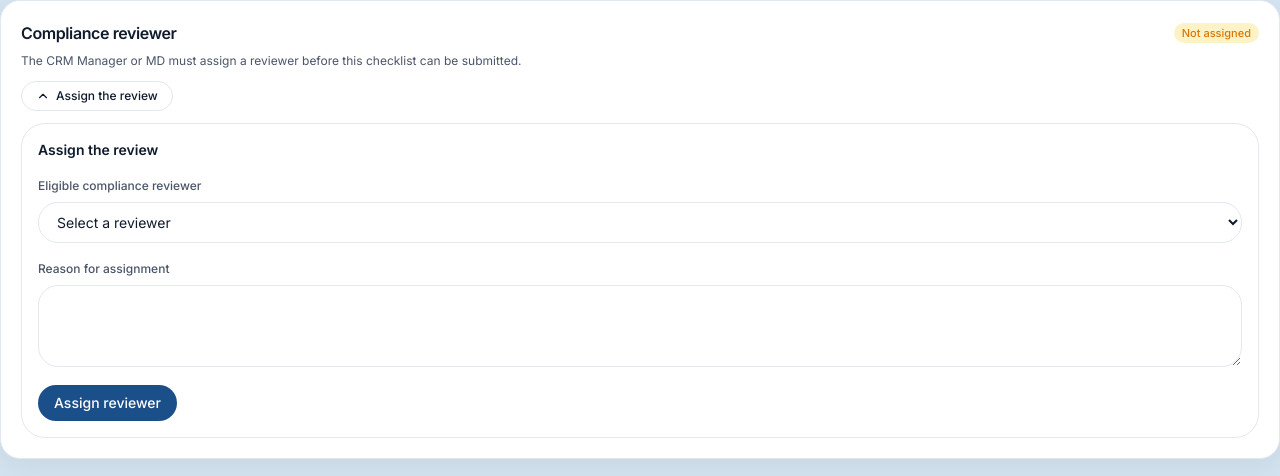
Test: KYC disclosures › collapses a new reviewer assignment only after its refresh succeeds
The image size is (1280, 476).
Select "Compliance Test" in the dropdown labelled "Eligible compliance reviewer". click: coordinates (640, 222)
box: [38,202,1242,243]
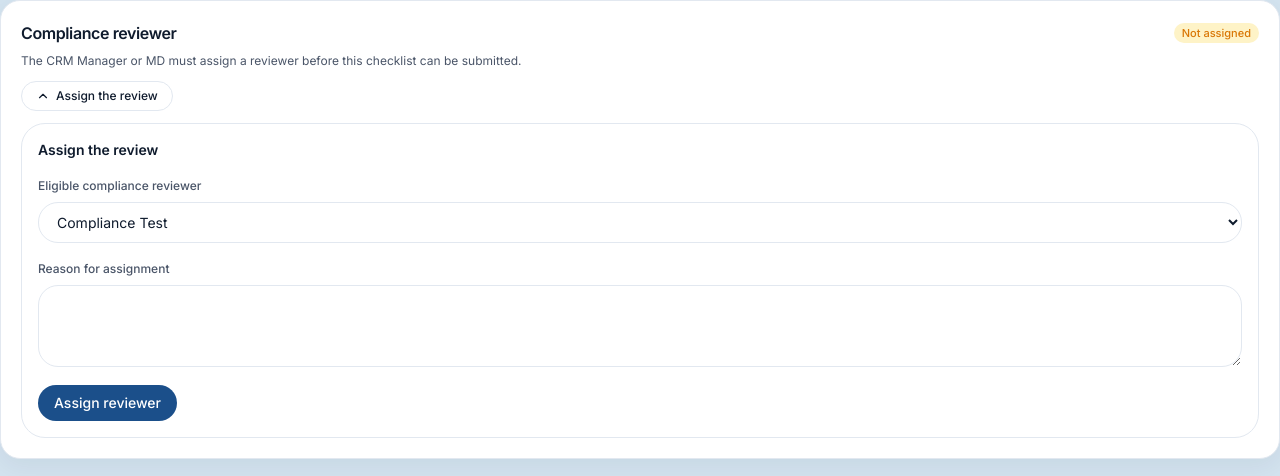
Type "Independent review" into the text box labelled "Reason for assignment". click: coordinates (640, 326)
box: [38,285,1242,367]
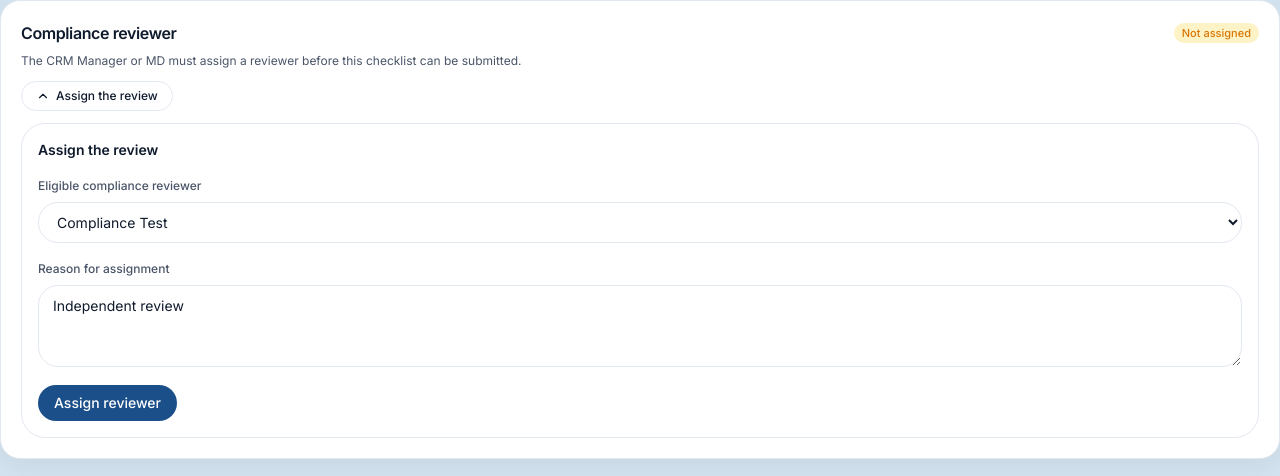
Click the button "Assign reviewer". click: coordinates (108, 403)
box: [38,385,177,421]
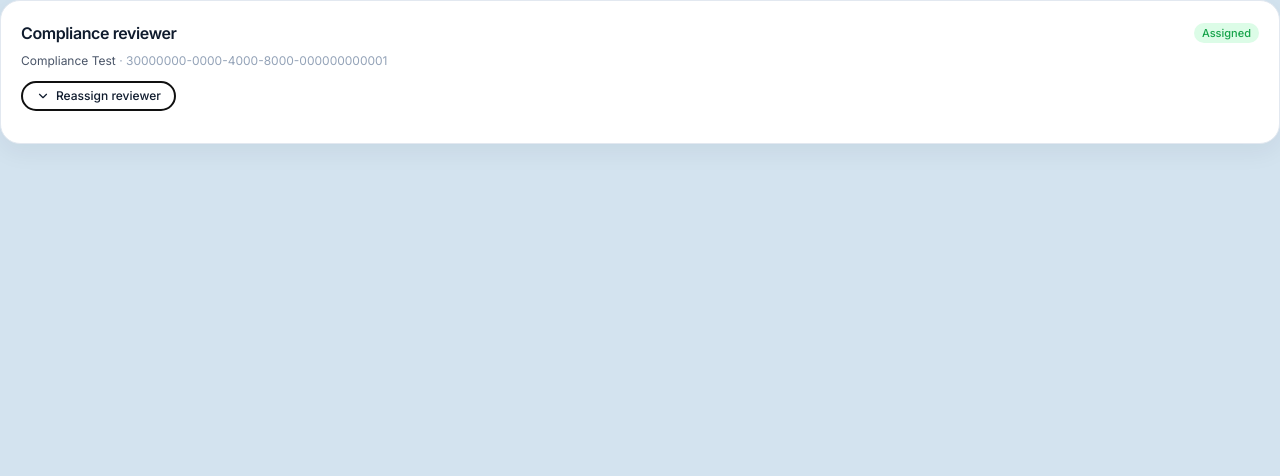
Expected: the button "Reassign reviewer" is collapsed, [21,81,176,111]
Expected: the text "Compliance Test · 30000000-0000-4000-8000-000000000001" is shown, [21,53,388,68]
